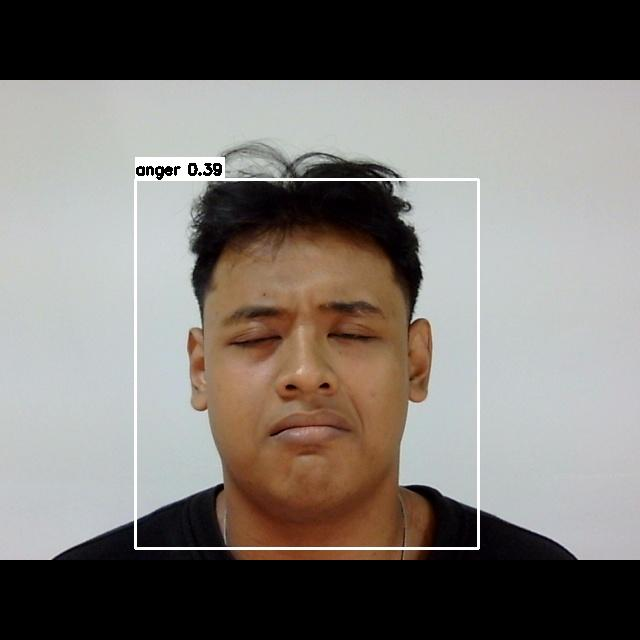Sad: (204, 284, 412, 489)
